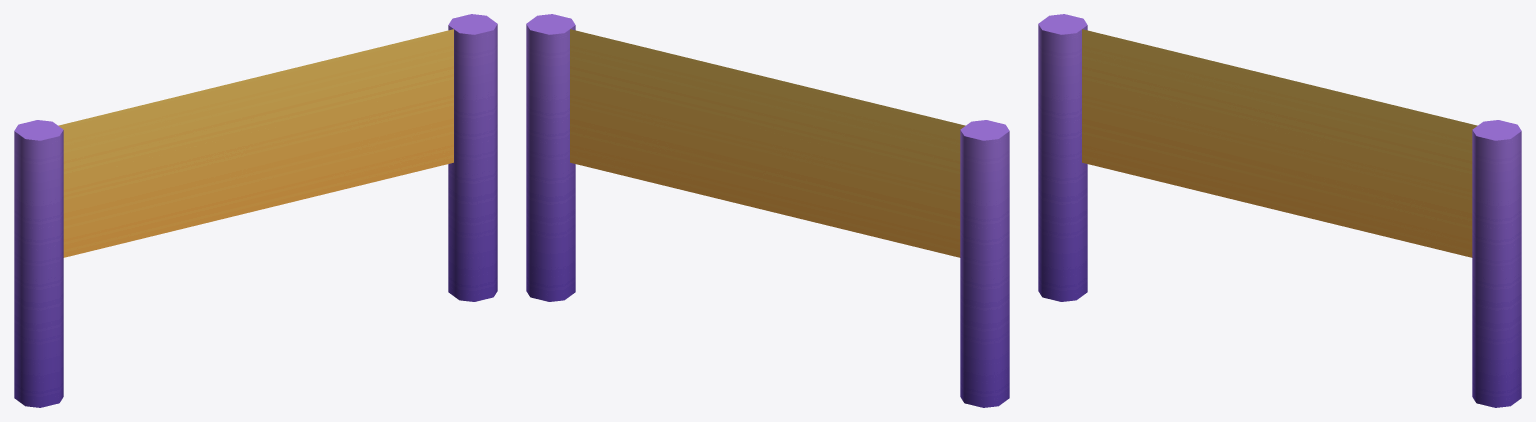
File: banner.glb
3 views of the same model, side by side, from view 1: azimuth 30°, elevation 25°; view 2: azimuth 150°, elevation 25°; view 3: azimuth 330°, elevation 25° (orthographic).
Visible parts, largest first — view 1: banner; view 2: banner; view 3: banner.
Part boxes in pixels (bbox=[...]): banner: bbox=[14, 14, 497, 407]; banner: bbox=[526, 14, 1009, 407]; banner: bbox=[1038, 14, 1521, 407].
Size of the model in its own units: 0.925 by 0.5 by 0.075.
1 material, 1 textured.
